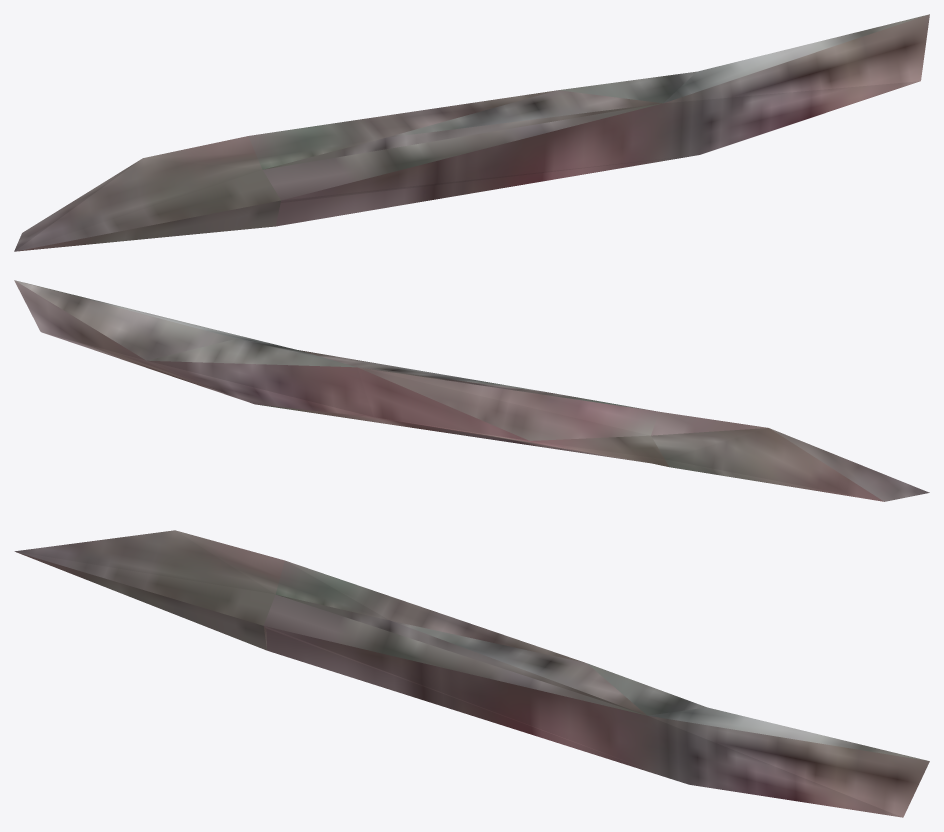
3 views of the same model, one above another, from view 1: azimuth 30°, elevation 25°; view 2: azimuth 150°, elevation 25°; view 3: azimuth 330°, elevation 25° (orthographic). The views are drawn at different scales.
Parts seen in each view (by area): view 1: Mesh_0; view 2: Mesh_0; view 3: Mesh_0.
Part boxes in pixels (box(x1,y1,x2,y2)): Mesh_0: box(14, 14, 929, 251); Mesh_0: box(14, 280, 929, 501); Mesh_0: box(14, 530, 929, 817).
Bounding box in the file's own units: 28.95 × 3.54 × 2.35.
1 material, 1 textured.
